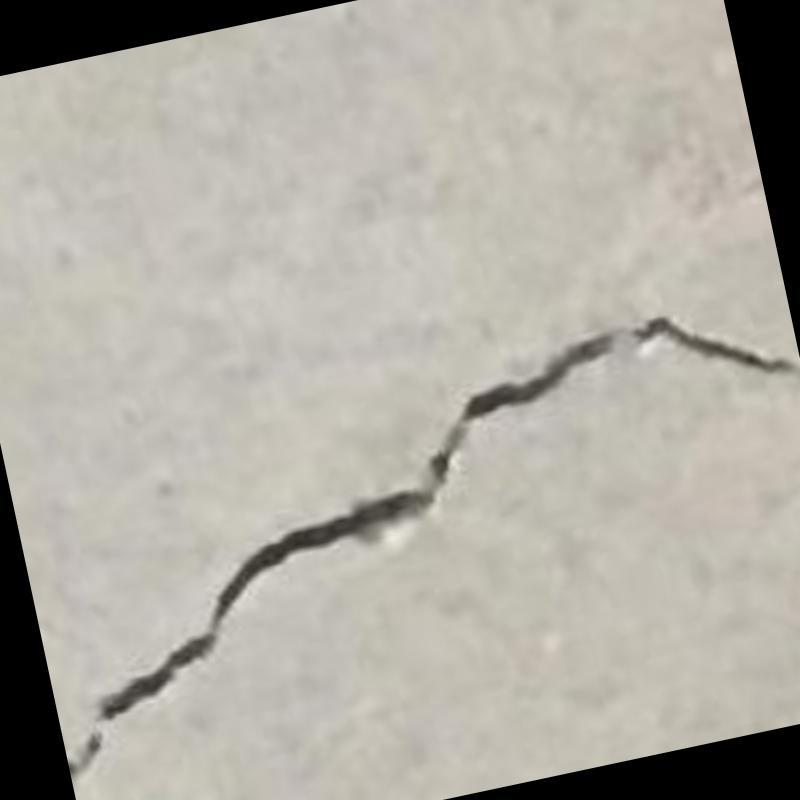pothole: (68, 320, 800, 785)
